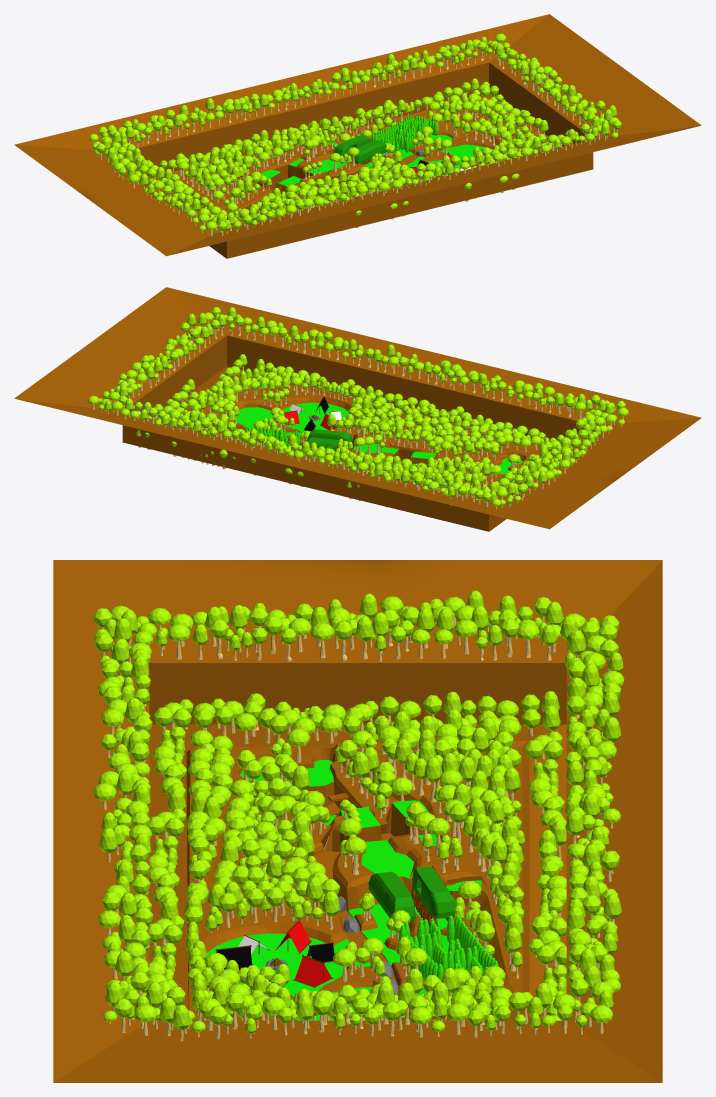
The model's file is proyectardolvl2parte14.fbx.
The picture shows the model from 3 angles, top to bottom: view 1: azimuth 30°, elevation 25°; view 2: azimuth 150°, elevation 25°; view 3: azimuth 270°, elevation 25°; orthographic projection. The views are drawn at different scales.
Parts seen in each view (by area): view 1: Plane.014, Icosphere.069, Tronco; view 2: Plane.014, Tronco; view 3: Plane.014, Tronco, Icosphere.069, Cylinder.004.
Boxes of the visible parts, x1,y1,x2,y2 form: Plane.014: [14, 14, 701, 258]; Icosphere.069: [371, 115, 437, 153]; Tronco: [333, 134, 387, 164]; Plane.014: [14, 287, 701, 531]; Tronco: [306, 429, 352, 450]; Plane.014: [53, 560, 662, 1082]; Tronco: [368, 866, 456, 938]; Icosphere.069: [398, 915, 498, 995]; Cylinder.004: [293, 955, 333, 987].
Bounding box in the file's own units: 2748 × 305 × 1354.
